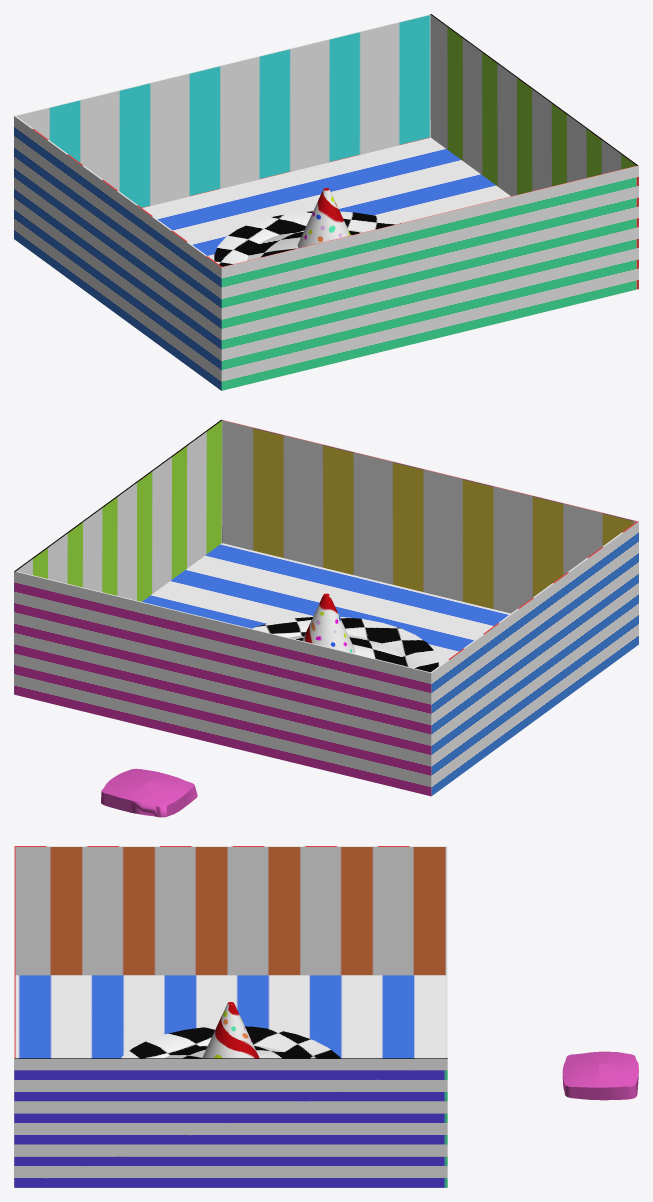
File: FunHouseRoom.fbx
3 views of the same model, one above another, from view 1: azimuth 30°, elevation 25°; view 2: azimuth 150°, elevation 25°; view 3: azimuth 270°, elevation 25° (orthographic). The views are drawn at different scales.
Parts seen in each view (by area): view 1: Room, Center; view 2: Room, Center, Platform; view 3: Room, Center, Platform.
Boxes of the visible parts, x1,y1,x2,y2 form: Room: (14,14,638,390); Center: (214,188,400,266); Room: (14,419,638,796); Center: (252,593,438,672); Platform: (101,768,197,817); Room: (14,846,447,1187); Center: (121,1002,340,1058); Platform: (562,1051,638,1100).
Size of the model in its own units: 5188 by 1531 by 6437.
